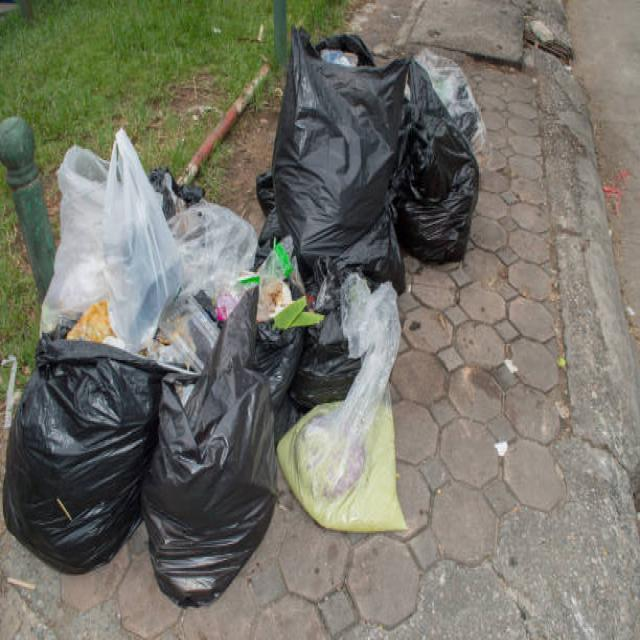garbage: (4, 18, 496, 612)
